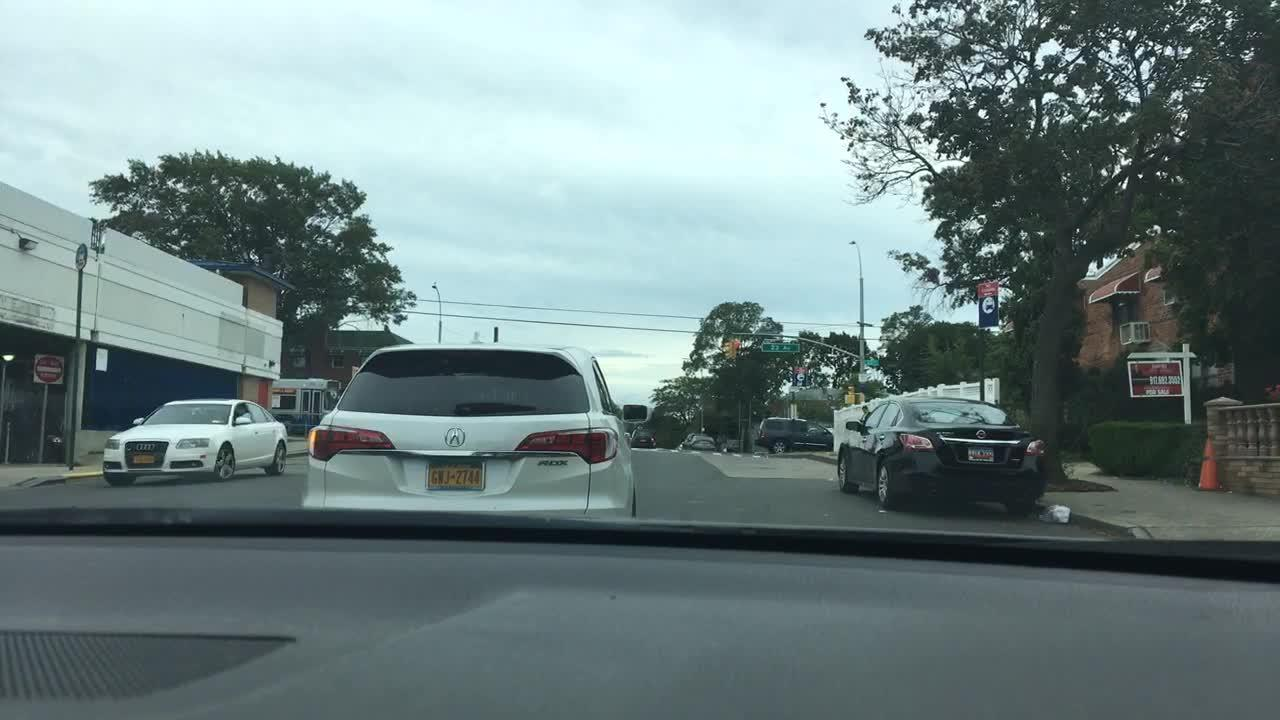Audi: (133, 439, 159, 456)
Nissan: (974, 428, 991, 441)
acura: (437, 420, 477, 454)
